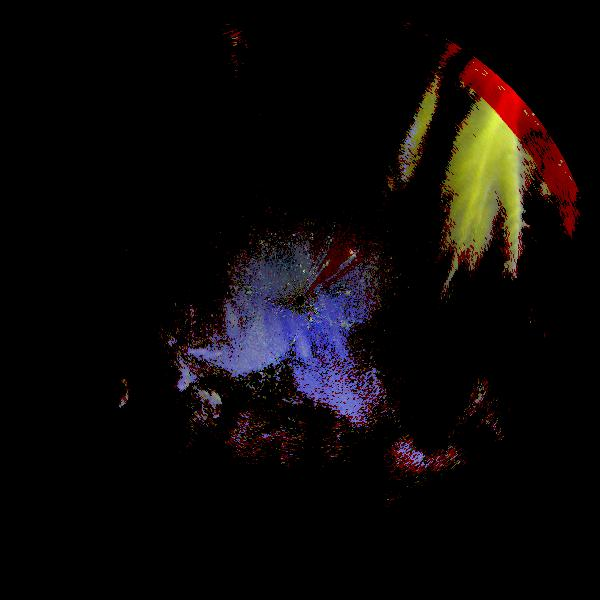roost: (95, 371, 137, 413), (188, 385, 227, 424)
